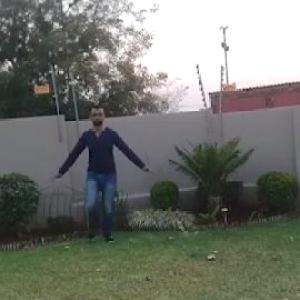land: (50, 109, 152, 244)
